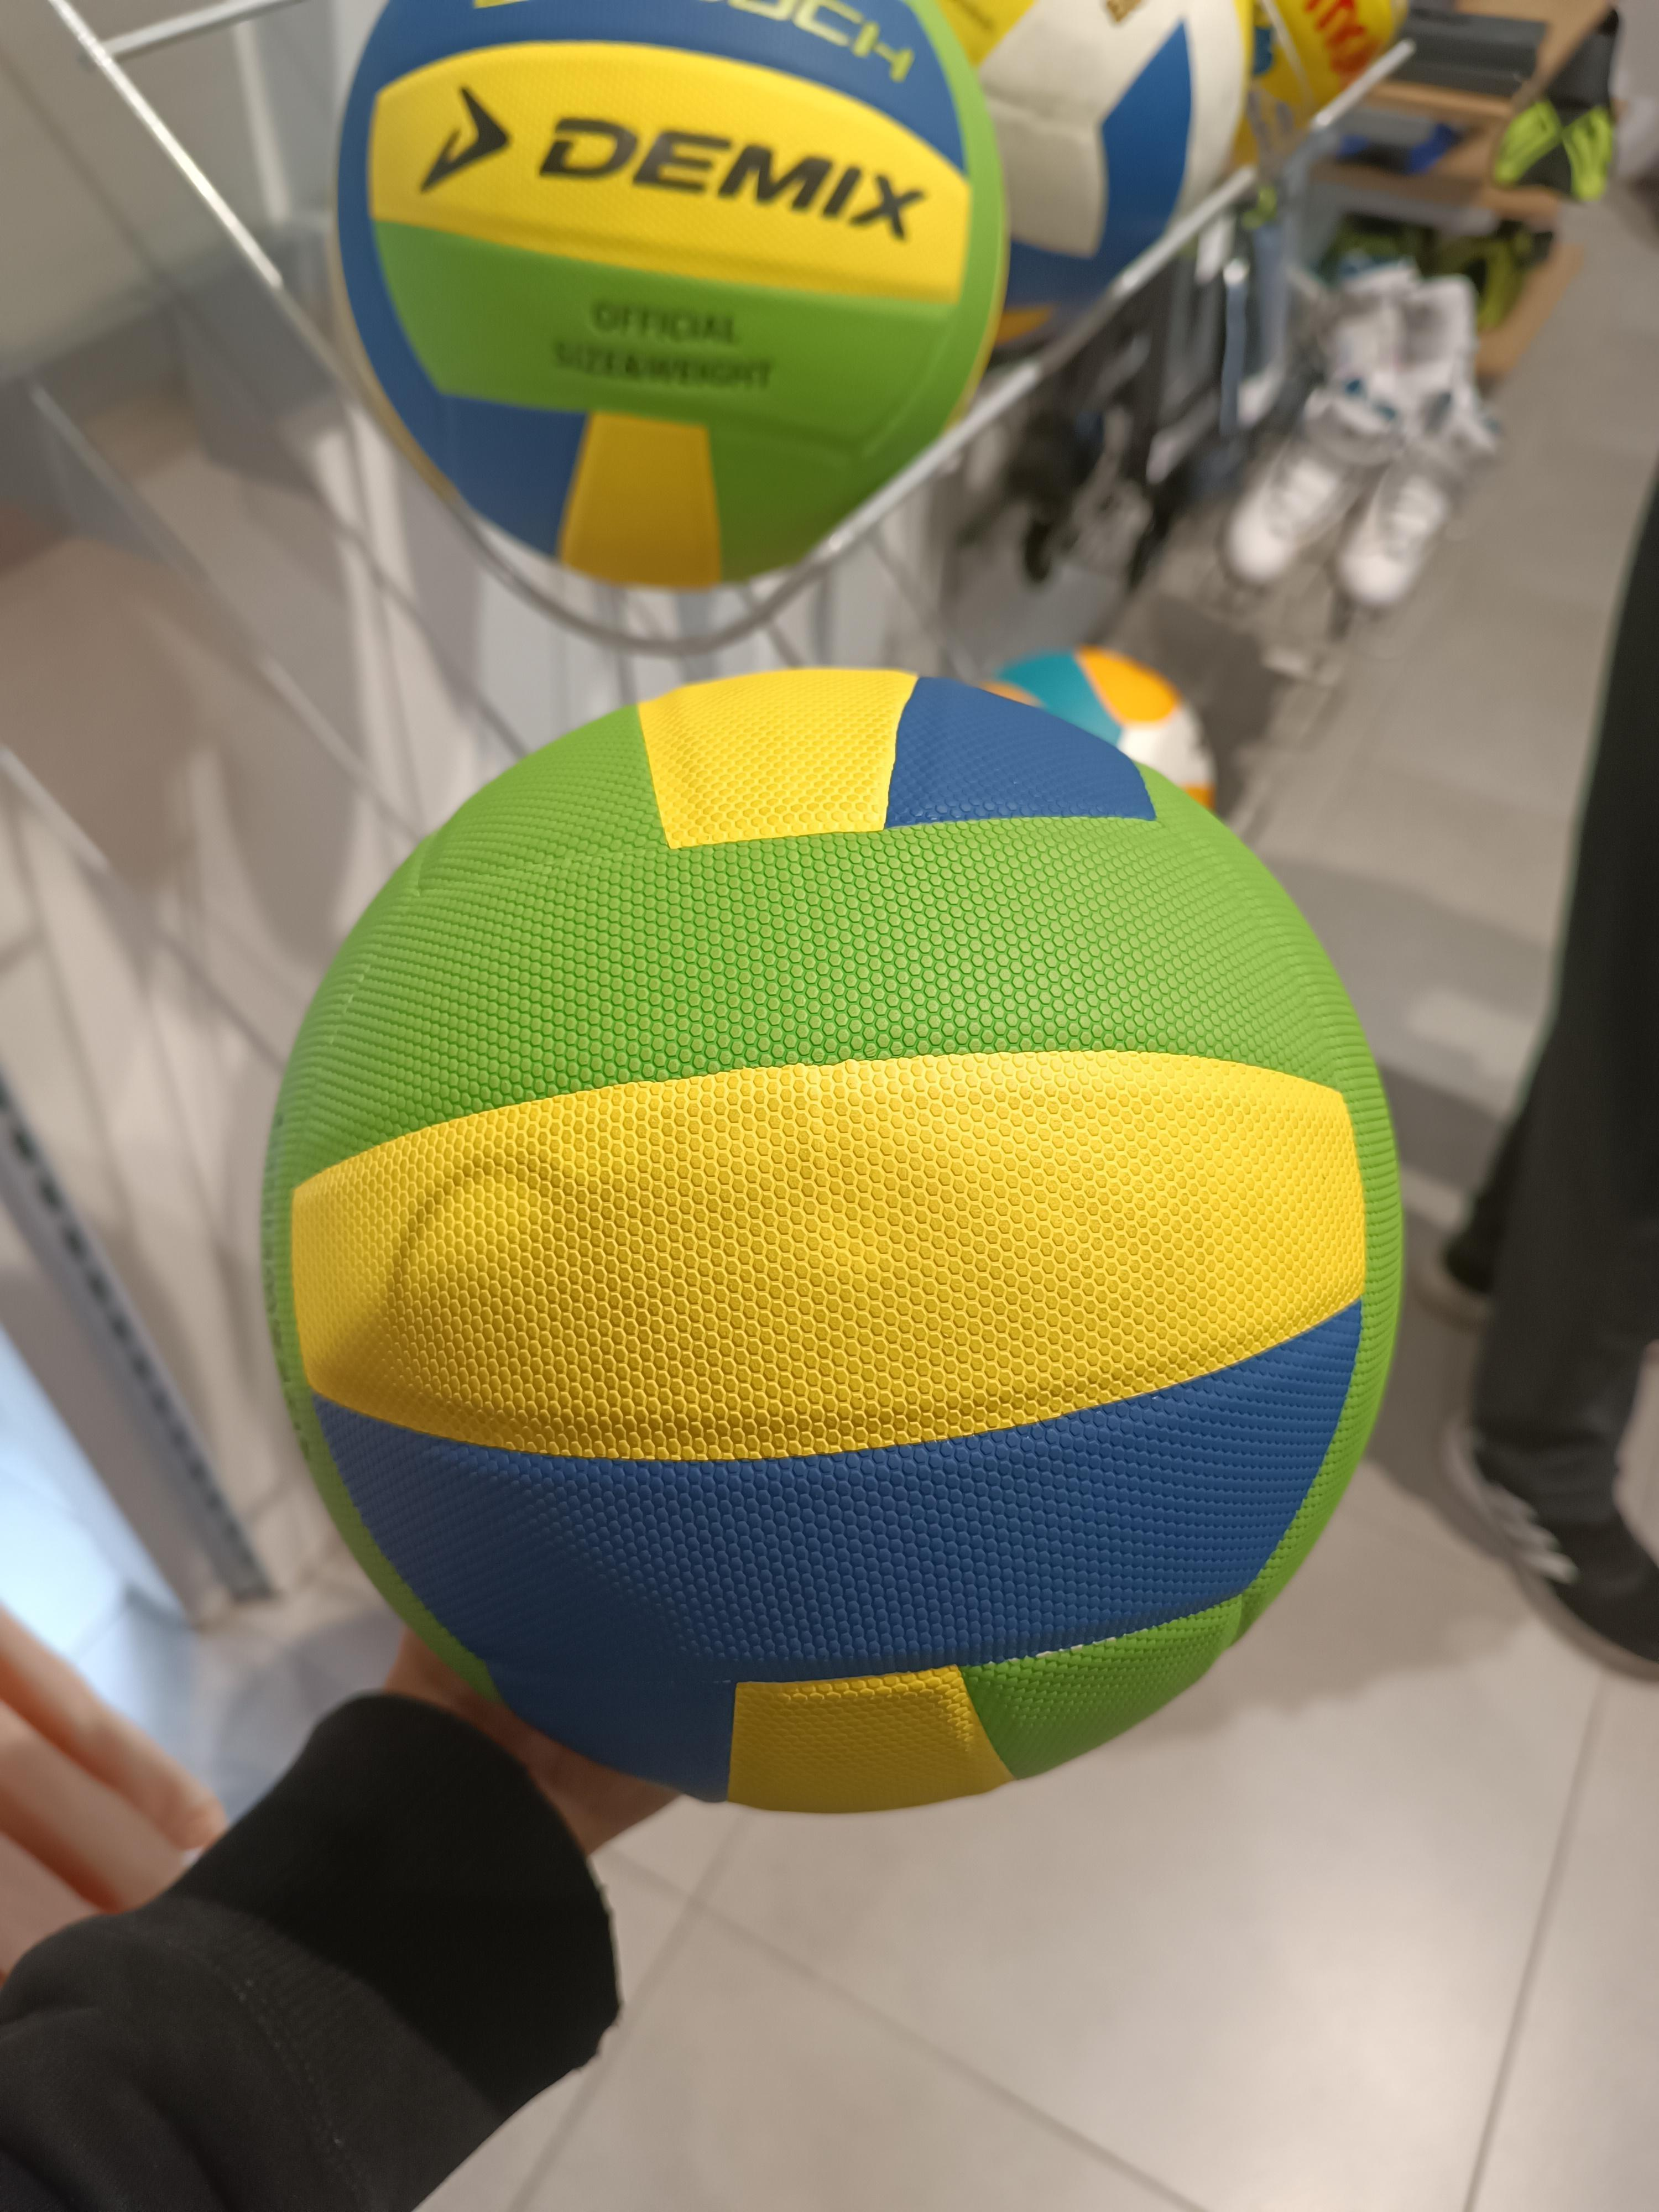Sports-Ball: (263, 669, 1399, 1810), (336, 0, 1007, 589), (932, 0, 1243, 289)
